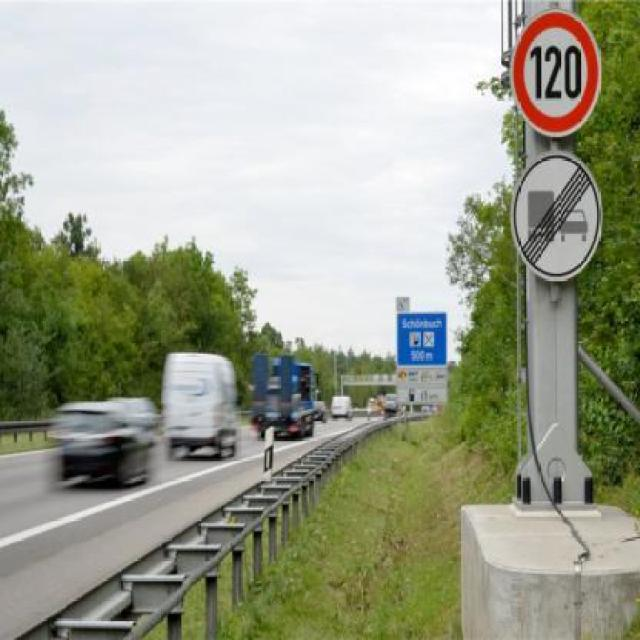forb_speed_over_120: (506, 13, 605, 141)
